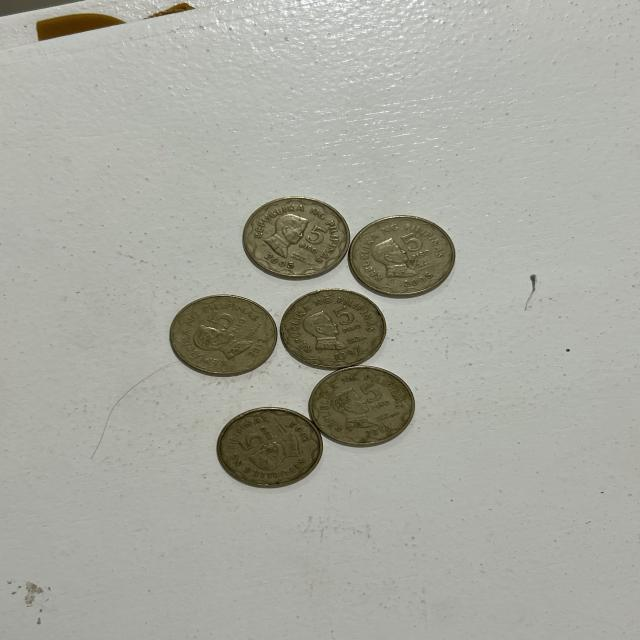5_Old_Front: (326, 302, 375, 338), (204, 307, 256, 337), (232, 424, 278, 454), (396, 230, 441, 260), (354, 380, 394, 413), (296, 222, 332, 256)
